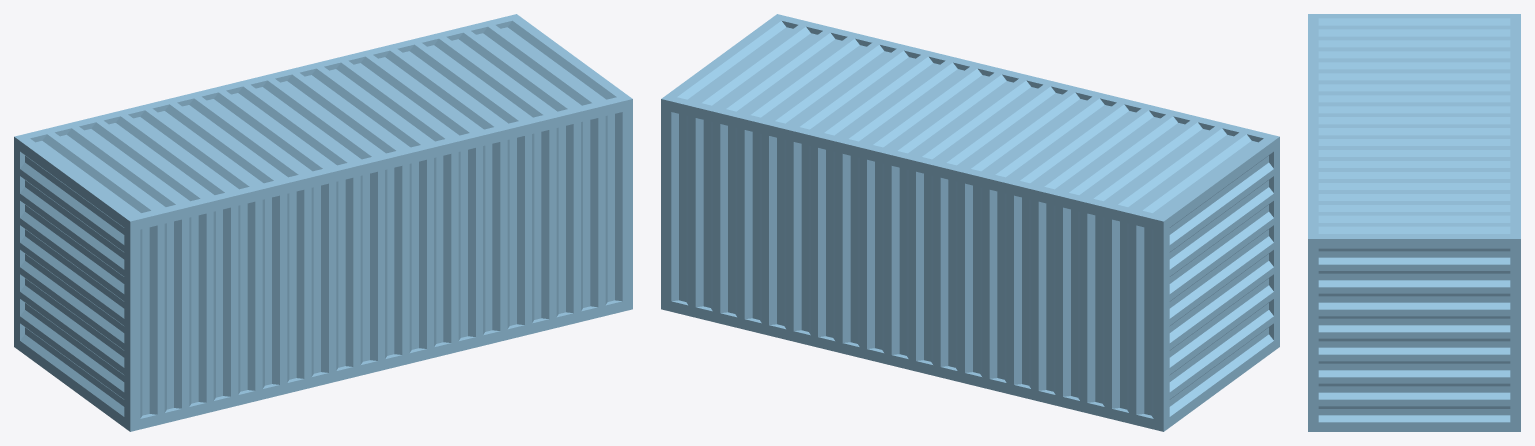
File: Crate.obj
3 views of the same model, side by side, from view 1: azimuth 30°, elevation 25°; view 2: azimuth 150°, elevation 25°; view 3: azimuth 270°, elevation 25° (orthographic). The views are drawn at different scales.
Visible parts, largest first — view 1: Container; view 2: Container; view 3: Container.
Part boxes in pixels (left/top/right/bottom): Container: left=14, top=14, right=632, bottom=431; Container: left=661, top=14, right=1279, bottom=431; Container: left=1308, top=14, right=1520, bottom=431.
Size of the model in its own units: 5 by 2 by 2.
